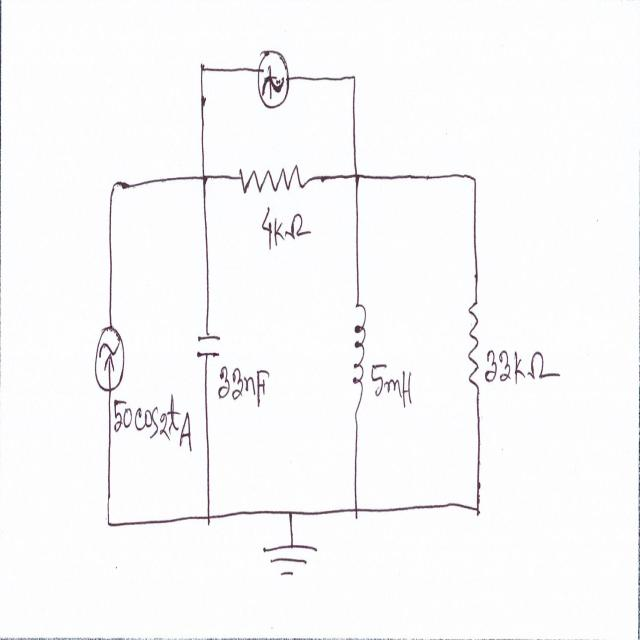ac_current: (258, 35, 290, 110)
capacitor: (194, 328, 224, 366)
current_source: (92, 322, 129, 395)
ground: (262, 541, 319, 587)
inductor: (349, 298, 368, 418)
resistor: (238, 159, 306, 206), (466, 287, 482, 390)
